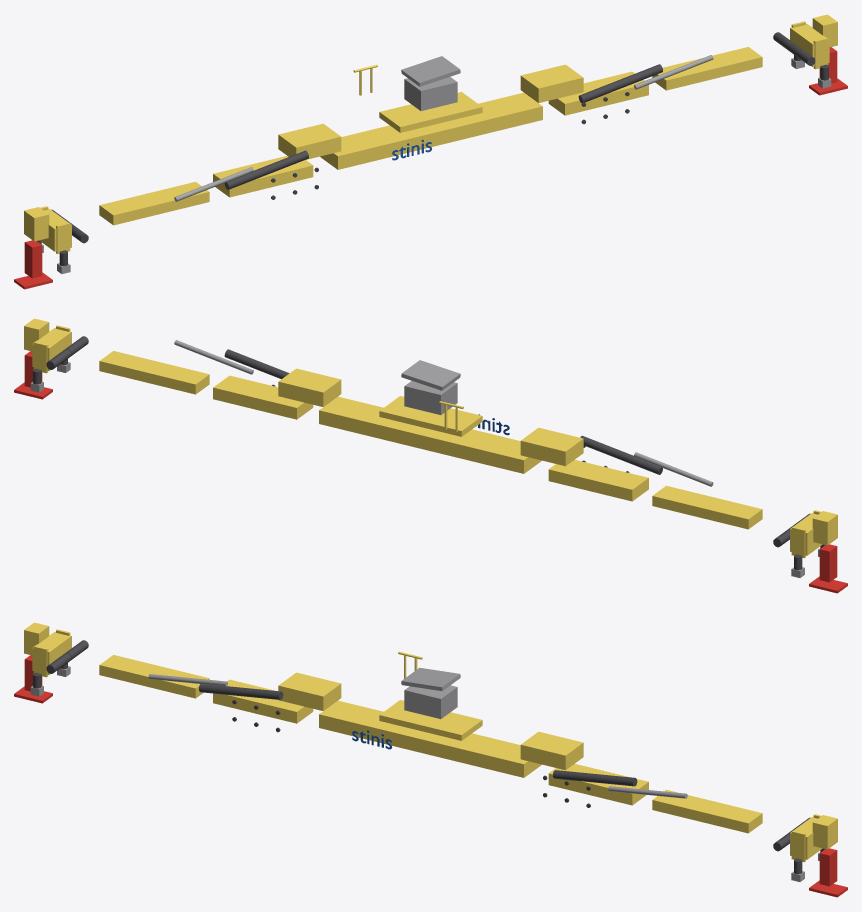
The model's file is spreader.glb.
3 renders of one model, top to bottom at view 1: azimuth 30°, elevation 25°; view 2: azimuth 150°, elevation 25°; view 3: azimuth 330°, elevation 25°, orthographic.
Visible parts, largest first — view 1: main_central_beam, left_sliding_inner_arm, right_sliding_inner_arm, top_equipment_platform, right_upper_side_housing, left_fixed_outer_arm, right_fixed_outer_arm, left_upper_side_housing, center_control_box_gray, center_control_box_sloped_roof, right_hydraulic_outer_body, left_hydraulic_outer_body (+4 smaller); view 2: main_central_beam, left_fixed_outer_arm, left_sliding_inner_arm, right_sliding_inner_arm, right_fixed_outer_arm, top_equipment_platform, right_upper_side_housing, left_upper_side_housing, center_control_box_gray, center_control_box_sloped_roof, left_hydraulic_outer_body, left_yellow_leg_mount (+4 smaller); view 3: main_central_beam, right_sliding_inner_arm, left_sliding_inner_arm, top_equipment_platform, right_upper_side_housing, left_upper_side_housing, left_fixed_outer_arm, right_fixed_outer_arm, center_control_box_gray, center_control_box_sloped_roof, right_hydraulic_outer_body, left_hydraulic_outer_body (+4 smaller).
Part boxes in pixels (x1,y1,x2,y2): main_central_beam: (320, 92, 542, 169); left_sliding_inner_arm: (99, 181, 209, 225); right_sliding_inner_arm: (652, 47, 762, 90); top_equipment_platform: (379, 92, 482, 132); right_upper_side_housing: (520, 64, 583, 102); left_fixed_outer_arm: (213, 156, 313, 197); right_fixed_outer_arm: (548, 71, 648, 115); left_upper_side_housing: (278, 123, 341, 159); center_control_box_gray: (404, 77, 457, 110); center_control_box_sloped_roof: (401, 56, 460, 86); right_hydraulic_outer_body: (578, 64, 662, 103); left_hydraulic_outer_body: (224, 150, 308, 189); main_central_beam: (319, 396, 541, 473); left_fixed_outer_arm: (548, 460, 648, 501); left_sliding_inner_arm: (652, 485, 762, 529); right_sliding_inner_arm: (99, 351, 209, 394); right_fixed_outer_arm: (213, 375, 313, 419); top_equipment_platform: (379, 396, 482, 436); right_upper_side_housing: (278, 368, 341, 406); left_upper_side_housing: (520, 427, 583, 466); center_control_box_gray: (404, 381, 457, 414); center_control_box_sloped_roof: (401, 360, 460, 390); left_hydraulic_outer_body: (580, 435, 662, 474); left_yellow_leg_mount: (812, 511, 837, 545); main_central_beam: (319, 700, 541, 777); right_sliding_inner_arm: (652, 789, 762, 833); left_sliding_inner_arm: (99, 655, 209, 698); top_equipment_platform: (379, 700, 482, 740); right_upper_side_housing: (520, 731, 583, 770); left_upper_side_housing: (278, 672, 341, 710); left_fixed_outer_arm: (213, 679, 313, 723); right_fixed_outer_arm: (548, 764, 648, 805); center_control_box_gray: (404, 685, 457, 718); center_control_box_sloped_roof: (401, 667, 460, 691); right_hydraulic_outer_body: (553, 770, 637, 786); left_hydraulic_outer_body: (199, 684, 283, 699).
Bounding box in the file's own units: 26.52 × 3.62 × 2.4.
